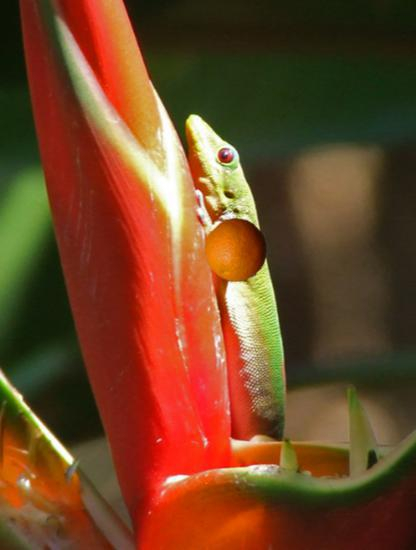Orange: (204, 218, 269, 283)
